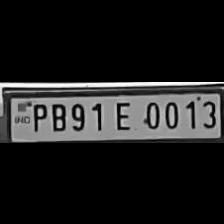0: (140, 97, 162, 129), (160, 97, 180, 128)
1: (88, 98, 106, 132), (180, 97, 198, 128)
3: (200, 96, 216, 130)
9: (68, 99, 86, 131)
B: (47, 99, 66, 131)
E: (109, 97, 134, 130)
P: (28, 100, 48, 132)
